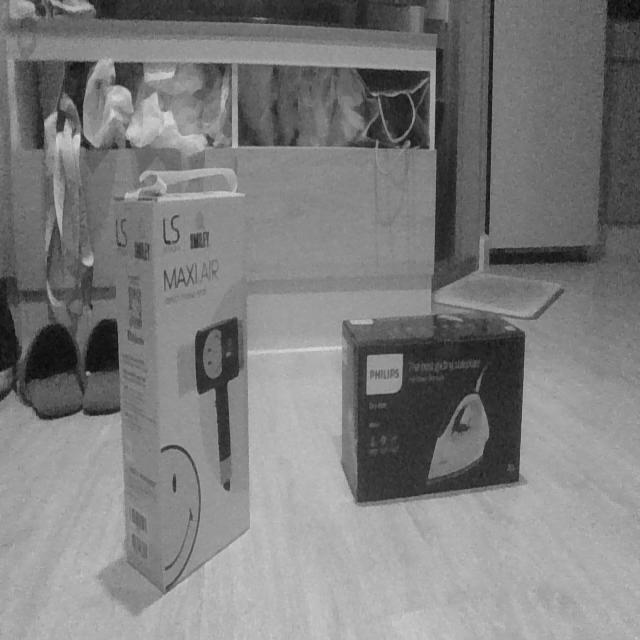Dryer: (111, 165, 253, 595)
IRON: (339, 310, 527, 508)
